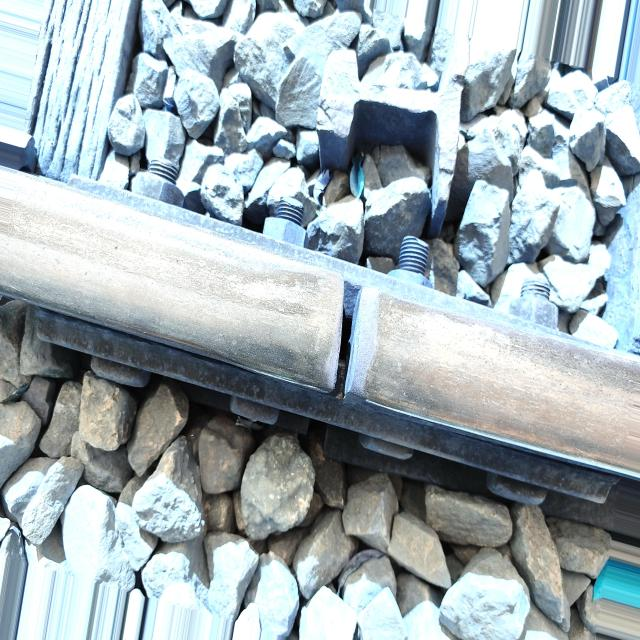crack: (304, 248, 386, 412)
